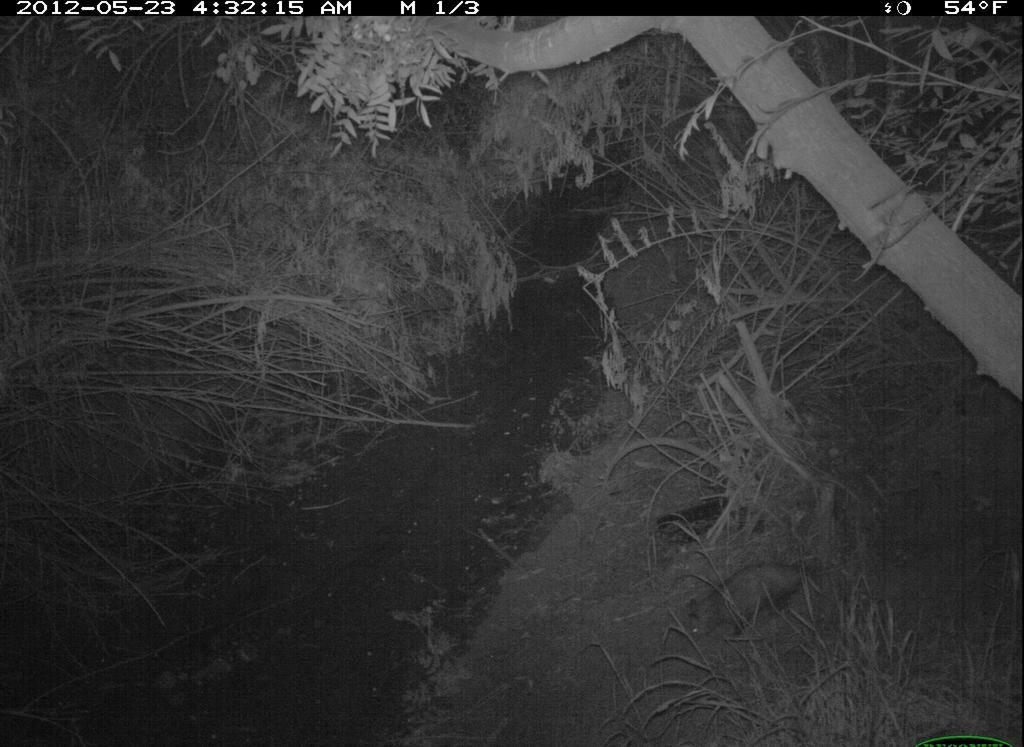opossum: (680, 553, 834, 647)
